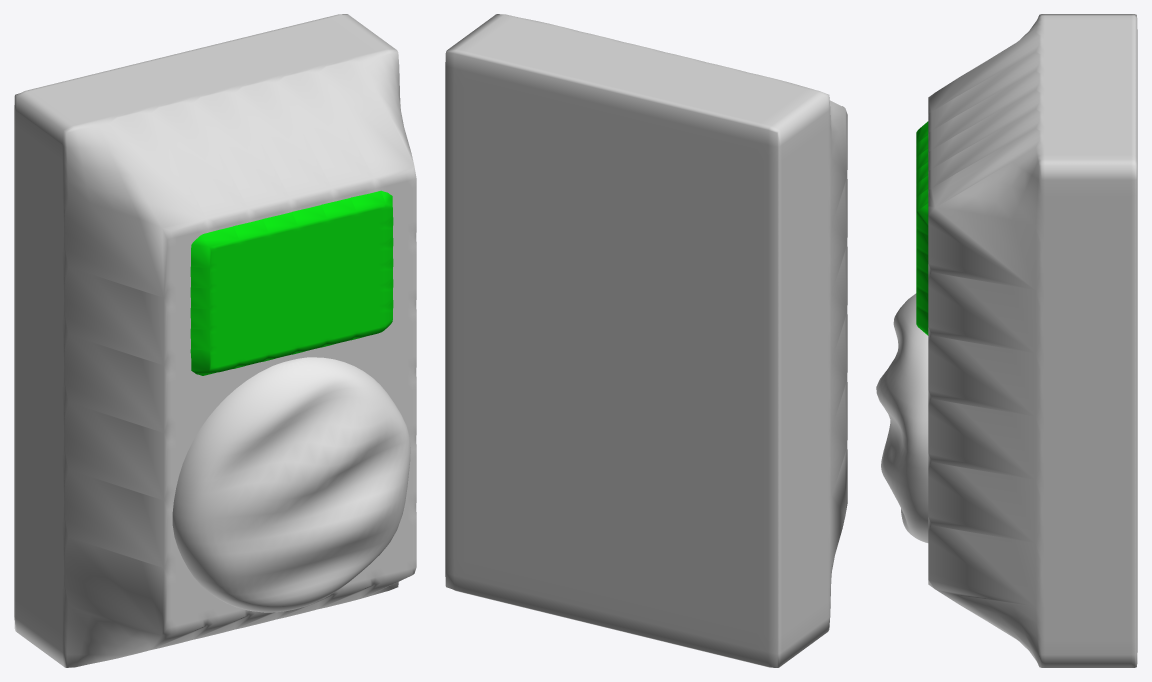
Rendered from SCP Button.fbx.
3 views of the same model, side by side, from view 1: azimuth 30°, elevation 25°; view 2: azimuth 150°, elevation 25°; view 3: azimuth 270°, elevation 25° (orthographic). The views are drawn at different scales.
Visible parts, largest first — view 1: Sphere; view 2: Sphere; view 3: Sphere.
Boxes of the visible parts, left/top/right/bottom form: Sphere: left=14, top=14, right=416, bottom=667; Sphere: left=445, top=14, right=847, bottom=667; Sphere: left=876, top=14, right=1137, bottom=667.
Bounding box in the file's own units: 200 × 309 × 144.
